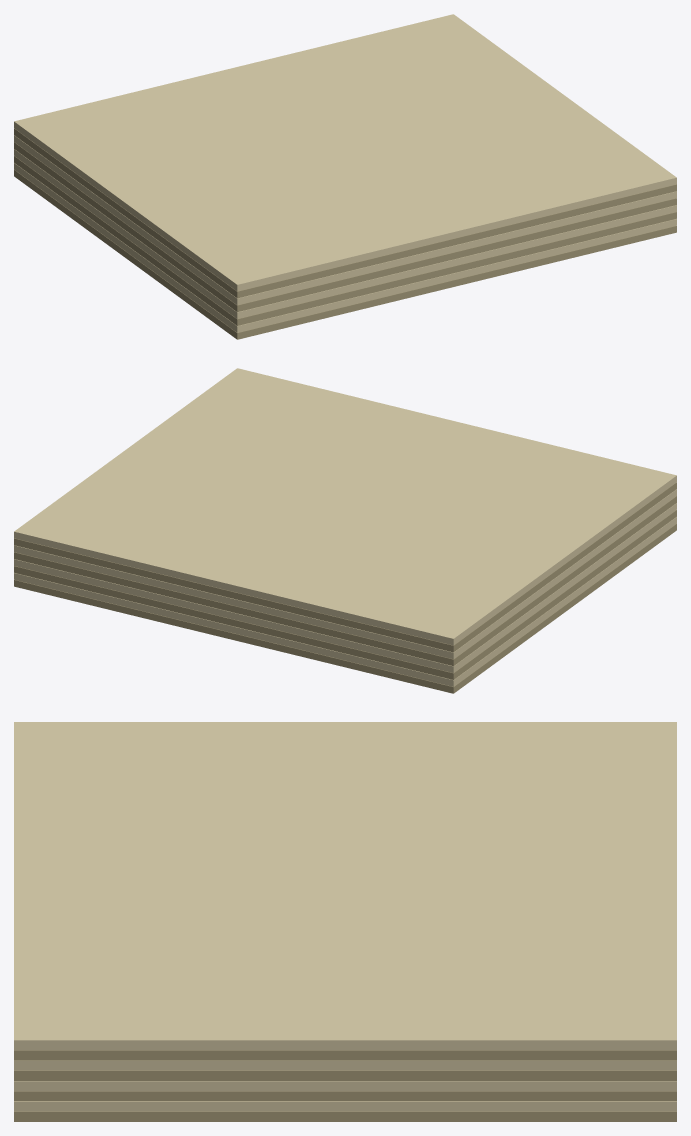
Rendered from paper.glb.
3 views of the same model, one above another, from view 1: azimuth 30°, elevation 25°; view 2: azimuth 150°, elevation 25°; view 3: azimuth 270°, elevation 25° (orthographic). The views are drawn at different scales.
Parts seen in each view (by area): view 1: PaperLayer_7, PaperLayer_0, PaperLayer_1, PaperLayer_6, PaperLayer_3, PaperLayer_5, PaperLayer_2, PaperLayer_4; view 2: PaperLayer_7, PaperLayer_0, PaperLayer_1, PaperLayer_6, PaperLayer_3, PaperLayer_5, PaperLayer_2, PaperLayer_4; view 3: PaperLayer_7, PaperLayer_0, PaperLayer_1, PaperLayer_2, PaperLayer_3, PaperLayer_4, PaperLayer_5, PaperLayer_6.
Part boxes in pixels (x1,y1,x2,y2): PaperLayer_7: (14,14,676,291); PaperLayer_0: (14,169,676,339); PaperLayer_1: (14,163,676,332); PaperLayer_6: (14,128,676,298); PaperLayer_3: (14,149,676,318); PaperLayer_5: (14,135,676,305); PaperLayer_2: (14,156,676,325); PaperLayer_4: (14,142,676,311); PaperLayer_7: (14,368,676,645); PaperLayer_0: (14,523,676,693); PaperLayer_1: (14,517,676,686); PaperLayer_6: (14,482,676,652); PaperLayer_3: (14,503,676,672); PaperLayer_5: (14,489,676,659); PaperLayer_2: (14,510,676,679); PaperLayer_4: (14,496,676,665); PaperLayer_7: (14,722,676,1050); PaperLayer_0: (14,1111,676,1121); PaperLayer_1: (14,1101,676,1111); PaperLayer_2: (14,1091,676,1101); PaperLayer_3: (14,1081,676,1091); PaperLayer_4: (14,1070,676,1080); PaperLayer_5: (14,1060,676,1070); PaperLayer_6: (14,1050,676,1060).
Size of the model in its own units: 0.5 by 0.0597 by 0.44.
